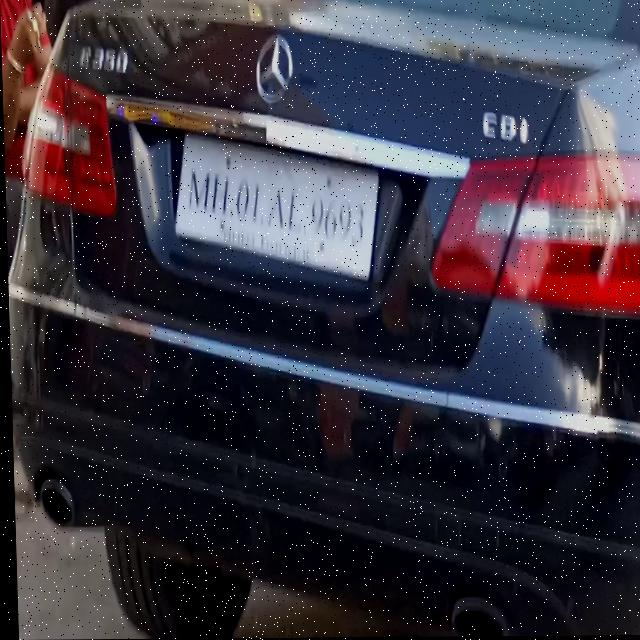plate: (170, 129, 382, 286)
